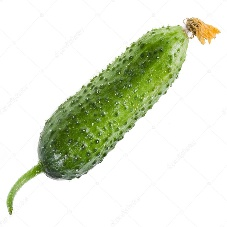cucumber: (37, 25, 192, 180)
